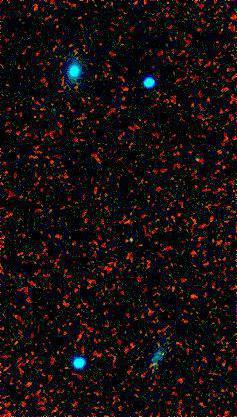star: (146, 343, 176, 373)
